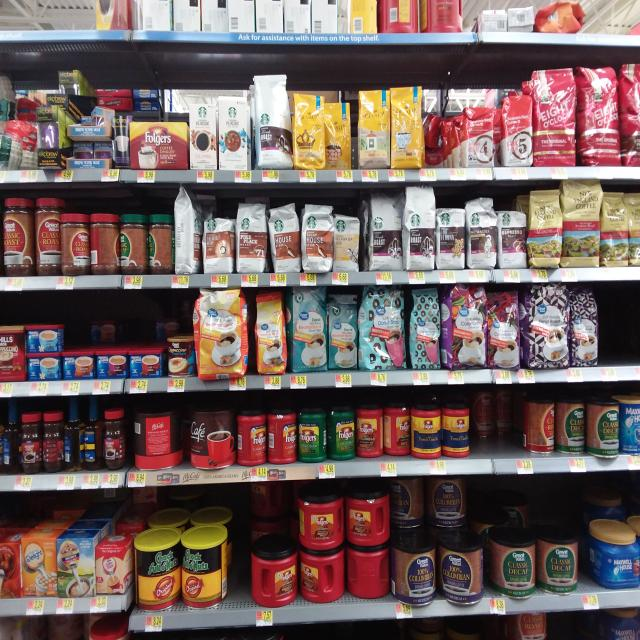empty: (597, 280, 640, 374)
